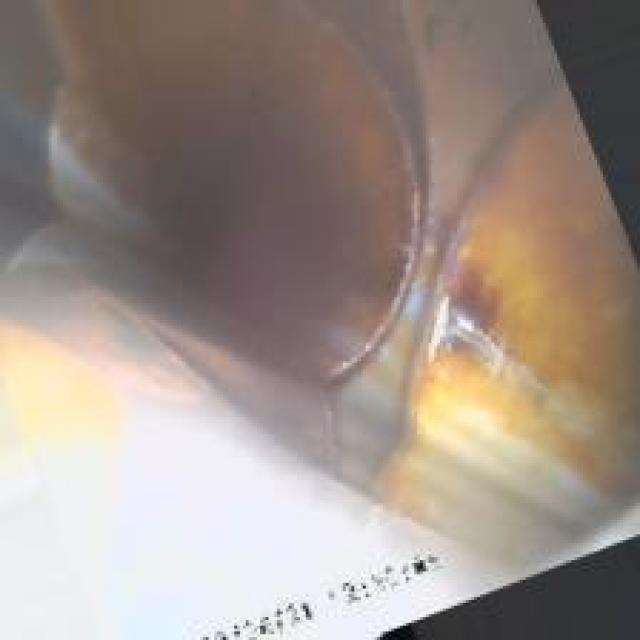joint: (37, 11, 580, 543)
